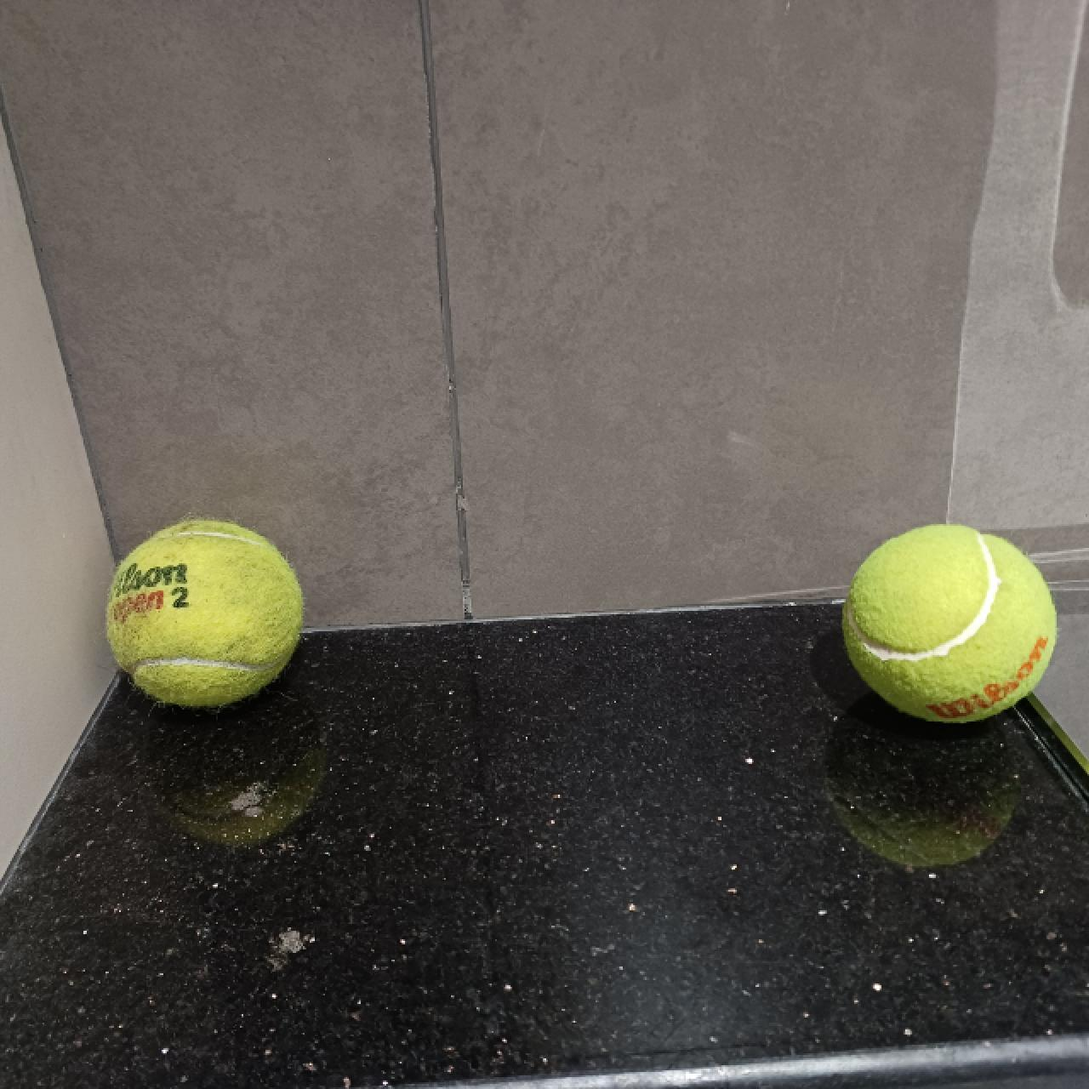tennis-ball: (840, 524, 1056, 724), (105, 518, 308, 708)
